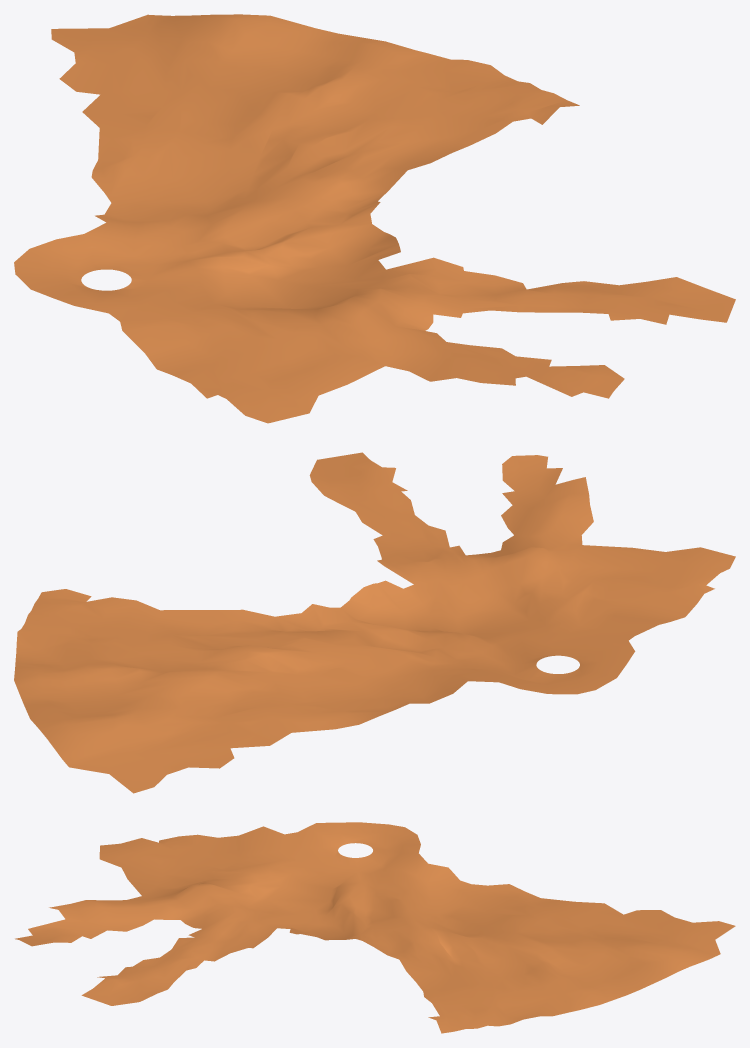
The model's file is landscape.gltf.
3 renders of one model, top to bottom at view 1: azimuth 30°, elevation 25°; view 2: azimuth 150°, elevation 25°; view 3: azimuth 270°, elevation 25°, orthographic. The views are drawn at different scales.
Parts seen in each view (by area): view 1: Map; view 2: Map; view 3: Map.
Boxes of the visible parts, bbox=[...] form: Map: bbox=[14, 14, 735, 423]; Map: bbox=[14, 452, 735, 793]; Map: bbox=[15, 822, 735, 1033].
Bounding box in the file's own units: 556 × 29.37 × 822.
